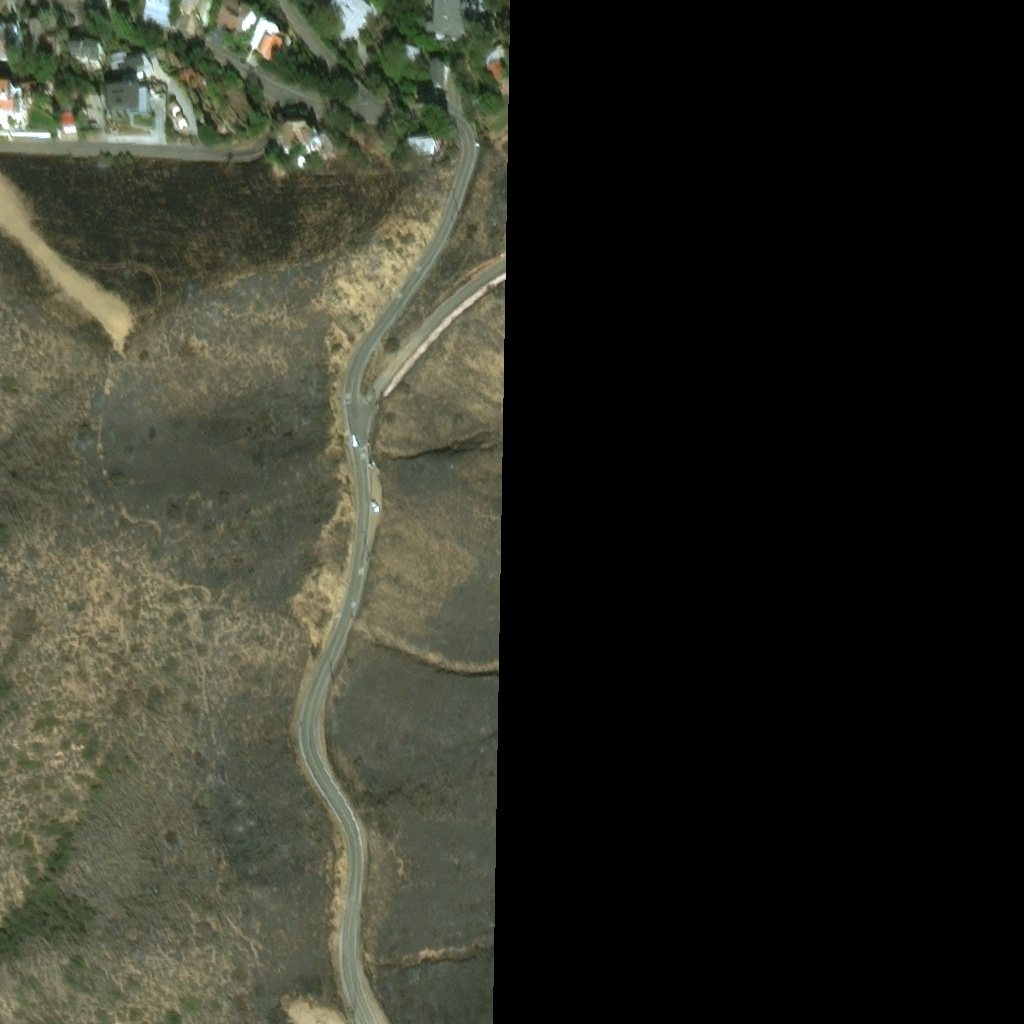0 no-damage: (0, 81, 51, 141), (323, 0, 374, 44), (214, 0, 260, 42), (247, 23, 288, 69), (422, 0, 466, 40), (282, 127, 332, 158), (179, 0, 218, 33), (107, 91, 151, 118), (67, 41, 107, 68), (29, 22, 60, 53), (140, 0, 176, 26), (110, 54, 148, 76), (0, 20, 20, 60), (176, 67, 209, 91), (487, 60, 507, 97), (410, 146, 441, 161), (466, 0, 488, 20), (61, 105, 77, 130), (400, 45, 422, 63), (429, 62, 444, 86), (408, 106, 429, 121)
